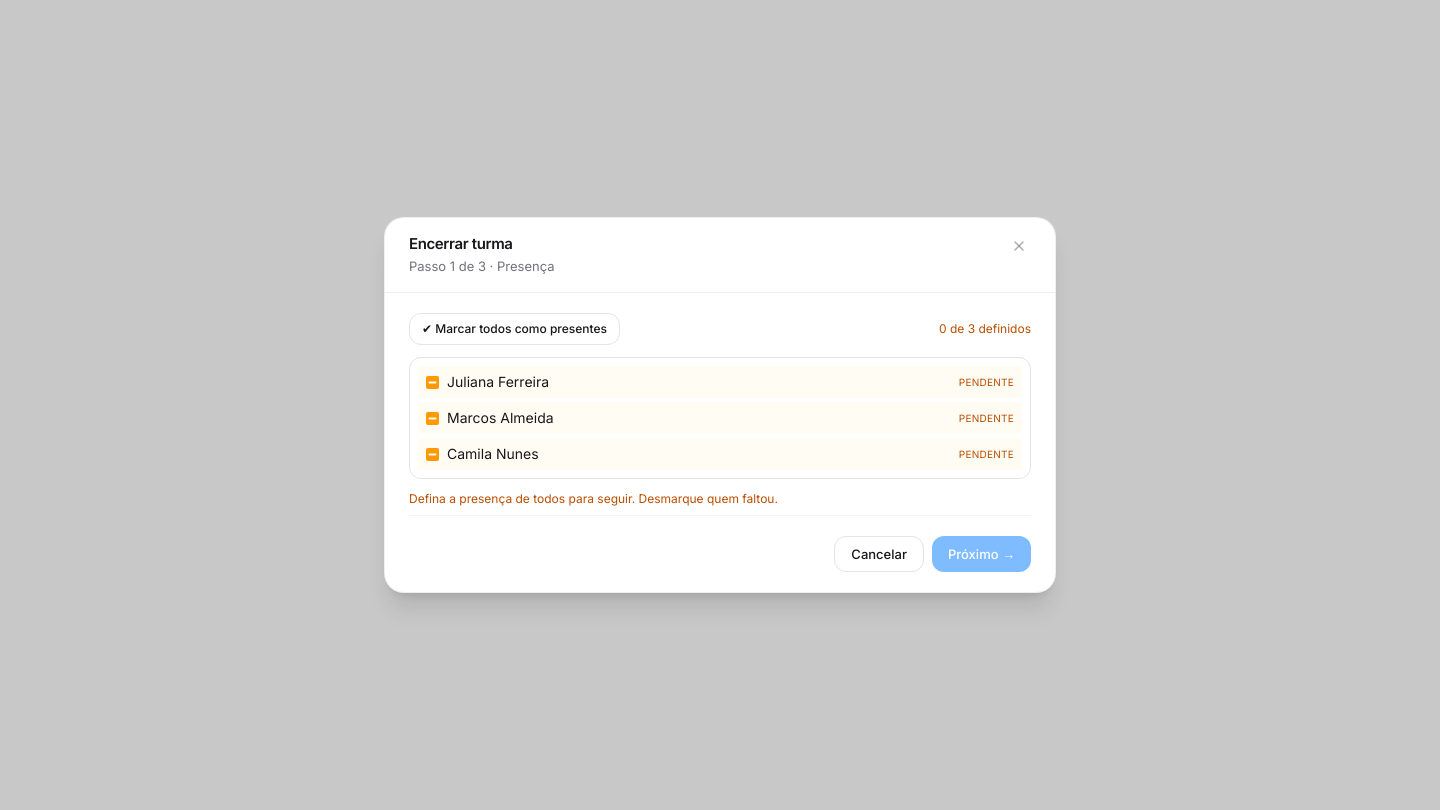
Test case: Assistente de encerramento de turma › presença nunca tocada não é interpretada como falta
This screenshot has width=1440, height=810.
Define só uma pessoa: as outras duas seguem pendentes e travam.
Click the checkbox labelled "Juliana Ferreira Pendente" at [432, 382], box [426,376,439,389]
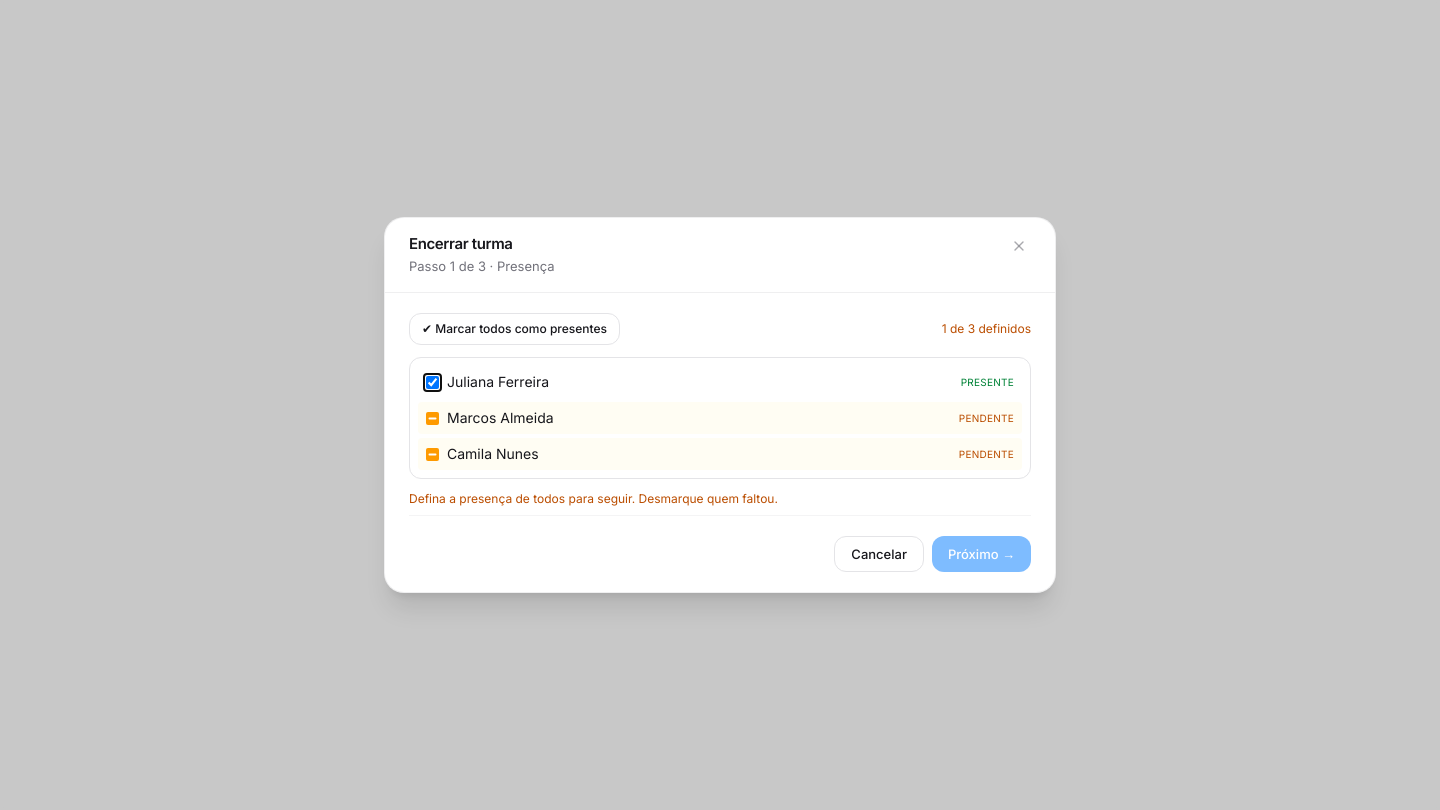
Expected: the text "Pendente" is shown 2 times, [959,411,1014,425]; [959,447,1014,461]
Expected: the text "1 de 3 definidos" is shown, [942,321,1031,337]
